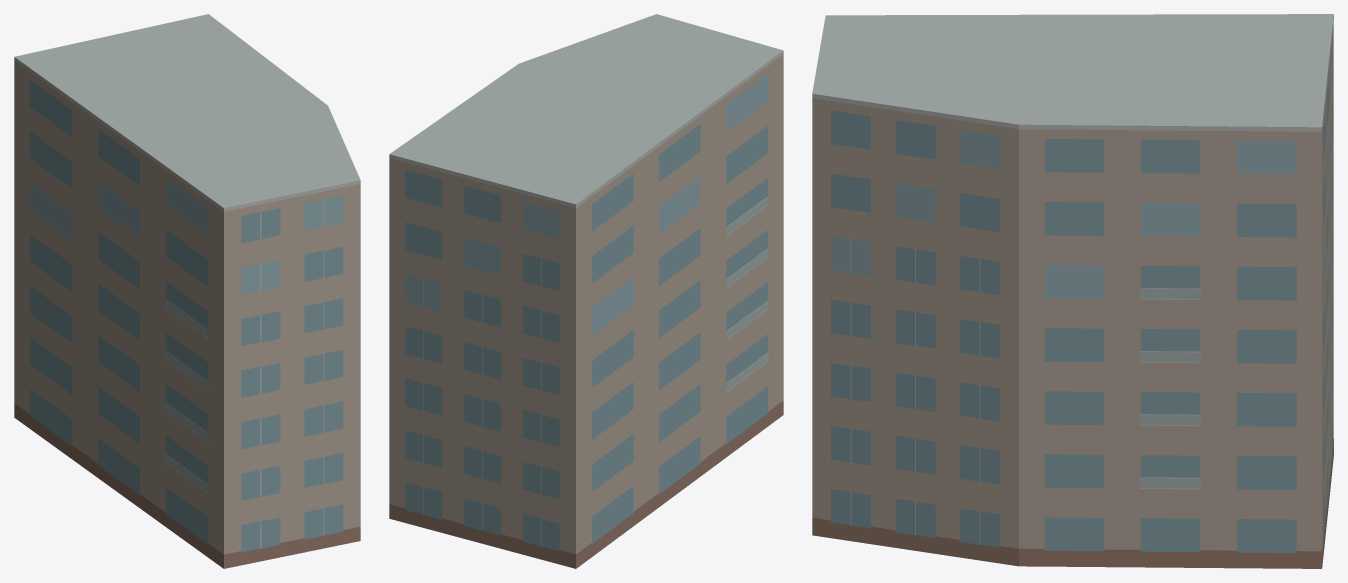
The model's file is survey-upis-32881317.glb.
The picture shows the model from 3 angles, left to right: view 1: azimuth 30°, elevation 25°; view 2: azimuth 150°, elevation 25°; view 3: azimuth 270°, elevation 25°; orthographic projection. The views are drawn at different scales.
Visible parts, largest first — view 1: survey-upis-32881317.tmp; view 2: survey-upis-32881317.tmp; view 3: survey-upis-32881317.tmp.
Boxes of the visible parts, x1,y1,x2,y2 form: survey-upis-32881317.tmp: (14,14,360,568); survey-upis-32881317.tmp: (389,14,783,568); survey-upis-32881317.tmp: (812,14,1333,568).
Size of the model in its own units: 13.1 by 23.8 by 25.49.
